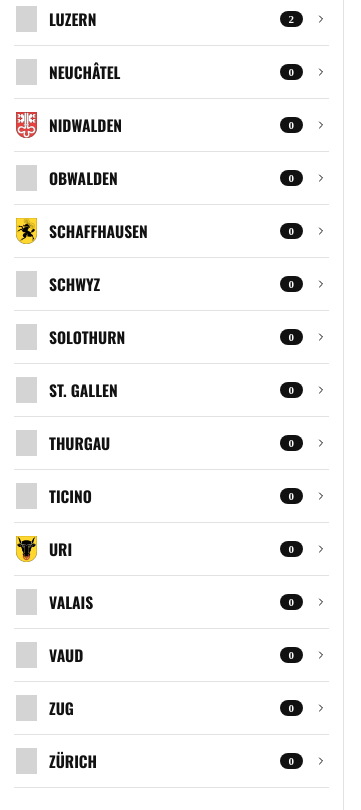
Scenario: Sidebar › shows the empty-state message for a canton with no venues when expanded
The width and height of the screenshot is (361, 810).
(page scrolled)
Click the text "Zug": (61, 708) [49,697,74,719]
(page scrolled)
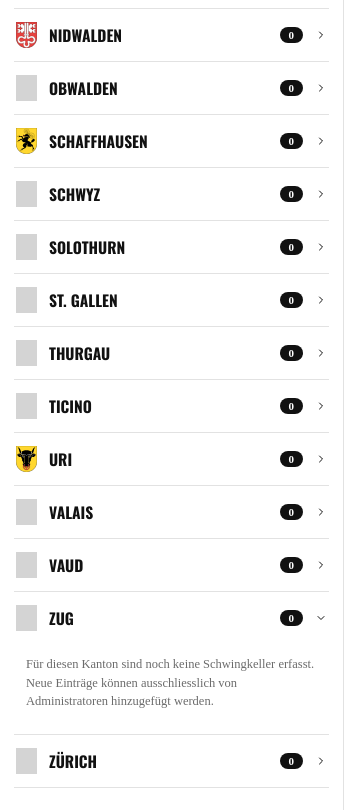
Result: the text "Für diesen Kanton sind noch keine Schwingkeller erfasst. Neue Einträge können ausschliesslich von Administratoren hinzug" is shown at [26,657,314,708]
